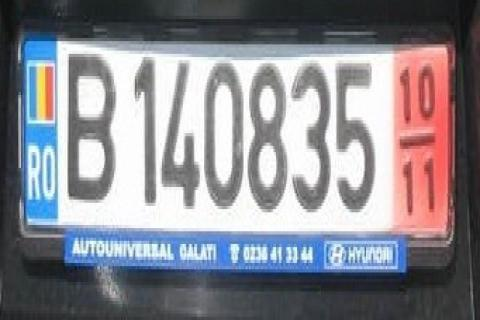LicensePlate: (6, 6, 476, 316)
